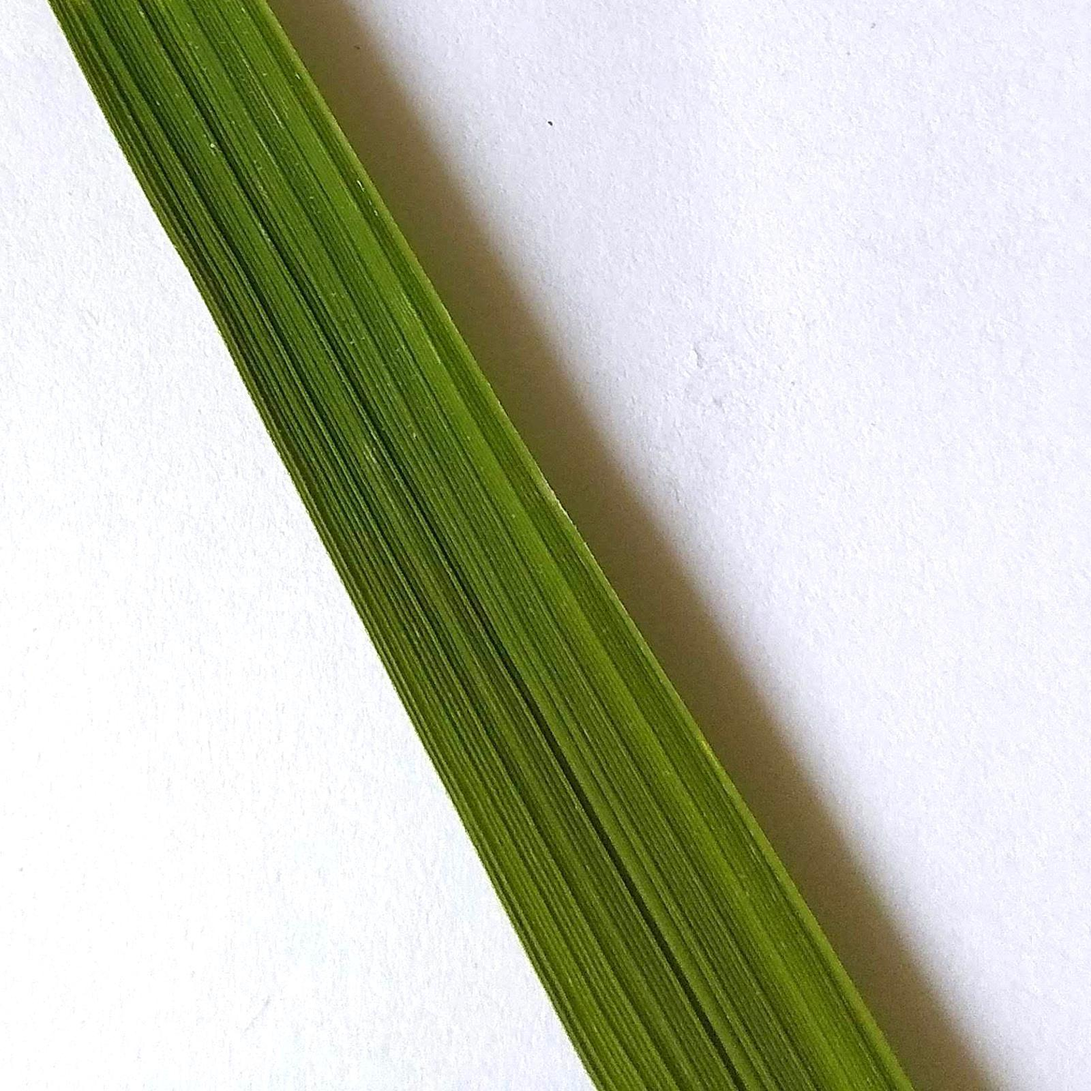Healthy: (50, 0, 912, 1090)
